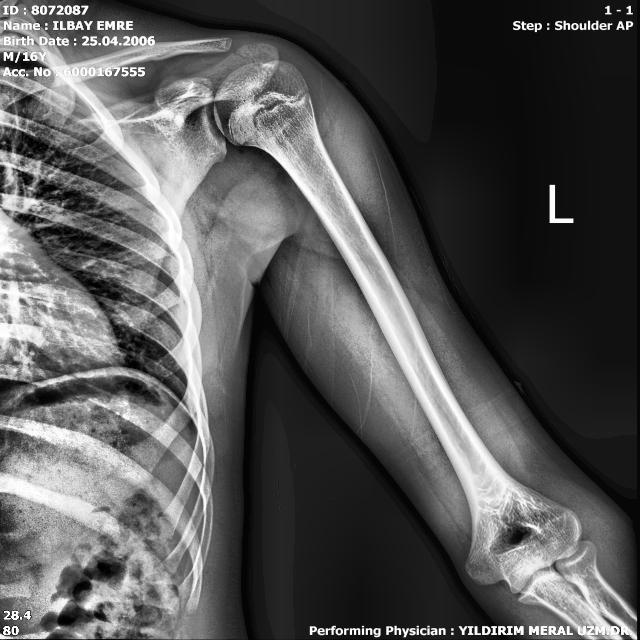Fracture: (243, 80, 314, 138)
